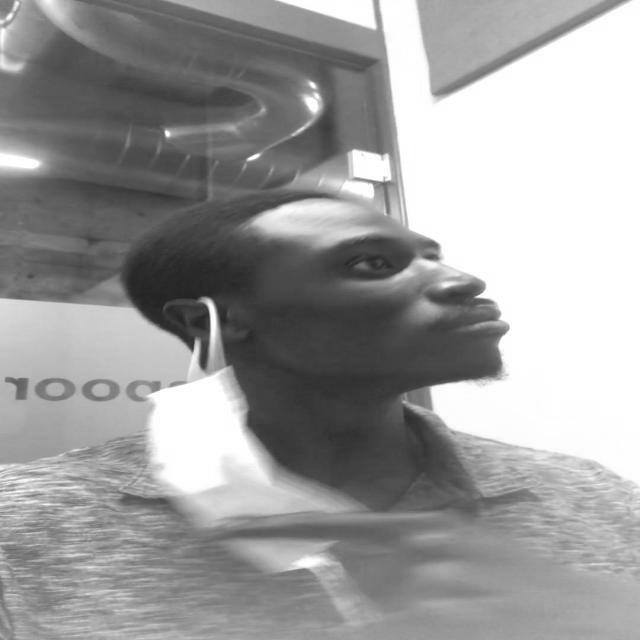real: (166, 194, 510, 378)
